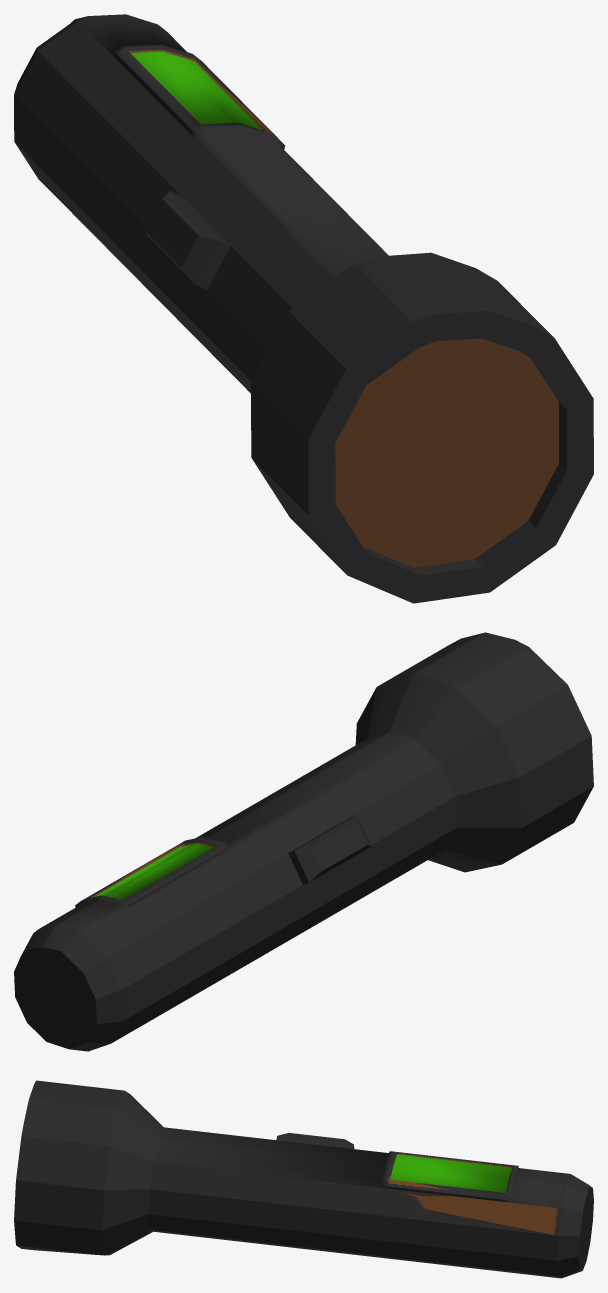
File: protag.fbx
3 views of the same model, one above another, from view 1: azimuth 30°, elevation 25°; view 2: azimuth 150°, elevation 25°; view 3: azimuth 270°, elevation 25° (orthographic). The views are drawn at different scales.
Visible parts, largest first — view 1: model; view 2: model; view 3: model.
Boxes of the visible parts, x1,y1,x2,y2 form: model: (14, 14, 593, 603); model: (14, 632, 593, 1051); model: (14, 1080, 593, 1278).
Size of the model in its own units: 11.82 by 8.94 by 30.59.
1 material, 1 textured.
